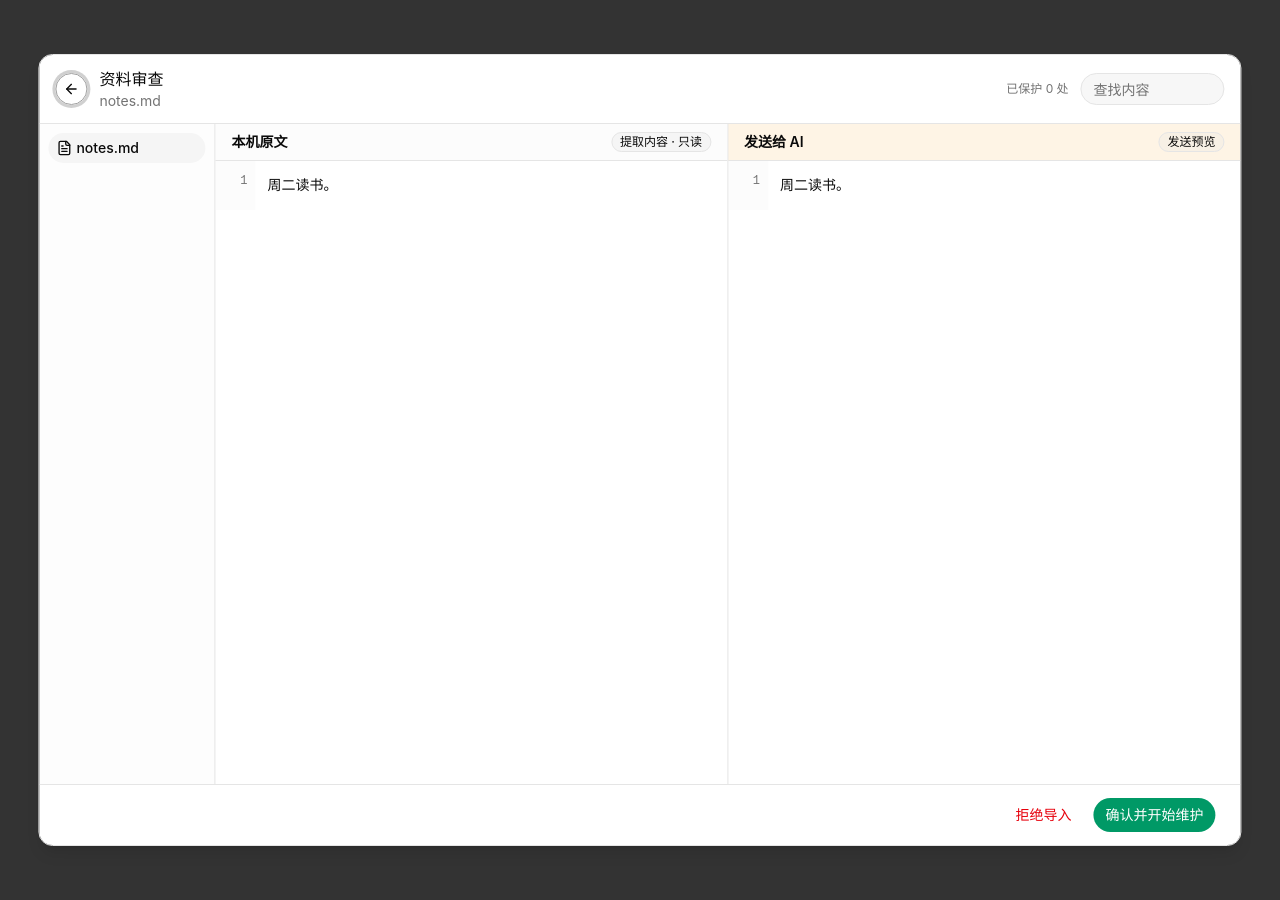
Test: locks edits only while submitting the task
Click the button "周二读书。" below "本机原文" at (302, 184), box [255,161,727,209]
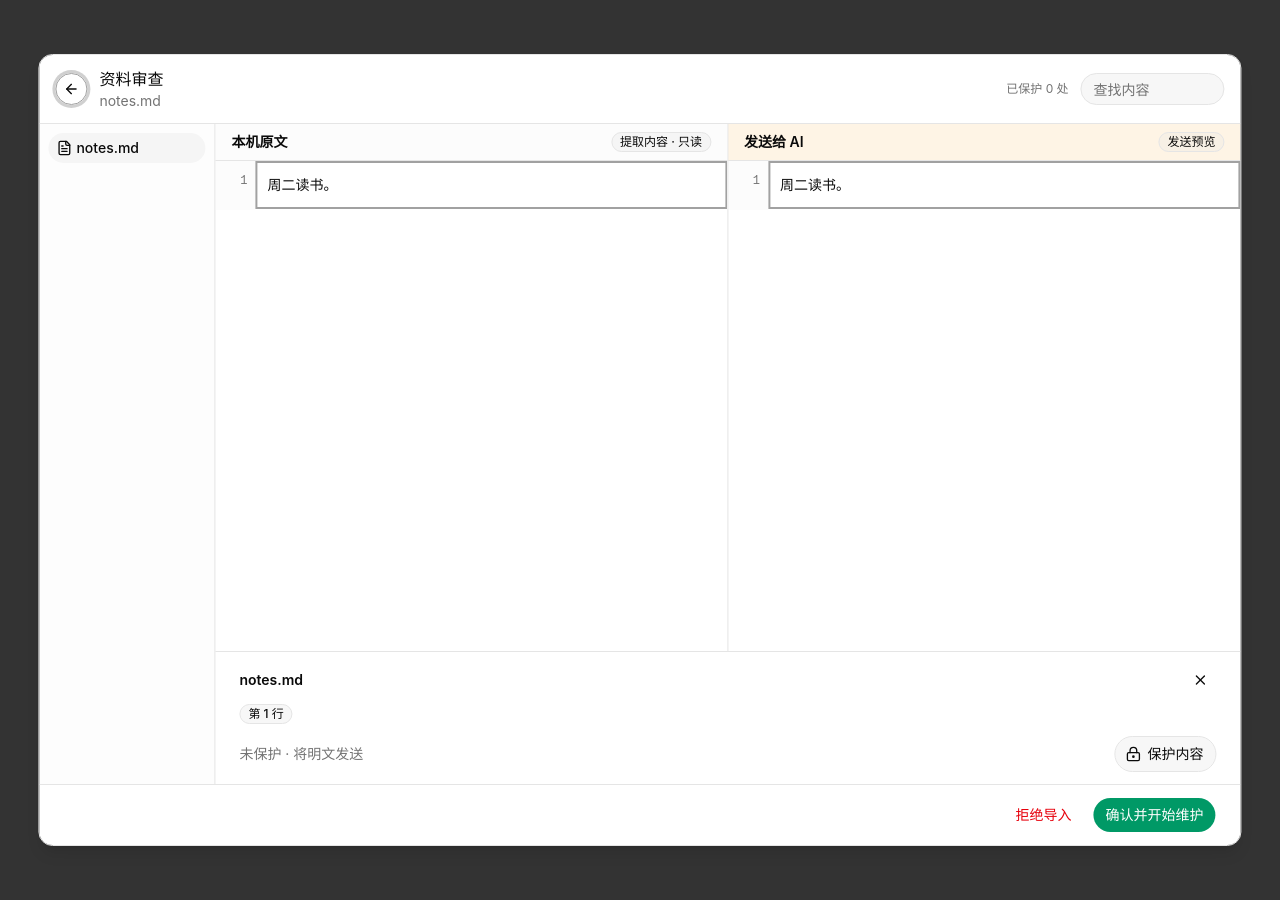
Click the button "确认并开始维护" at (1155, 815), box [1093,797,1217,833]
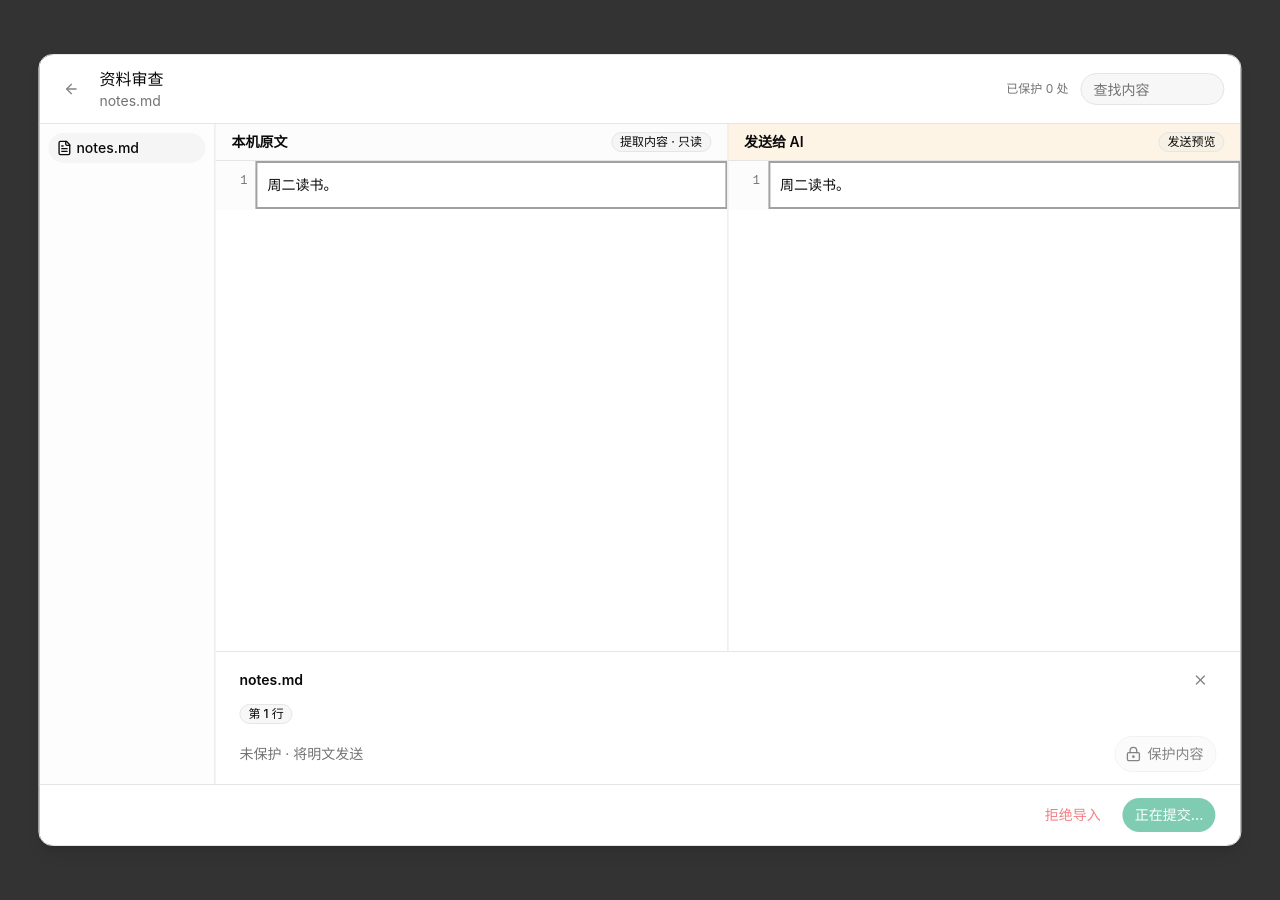
Result: the button "保护内容" is disabled at [1115,736,1217,772]
Result: the button "拒绝导入" is disabled at [1032,797,1114,833]
